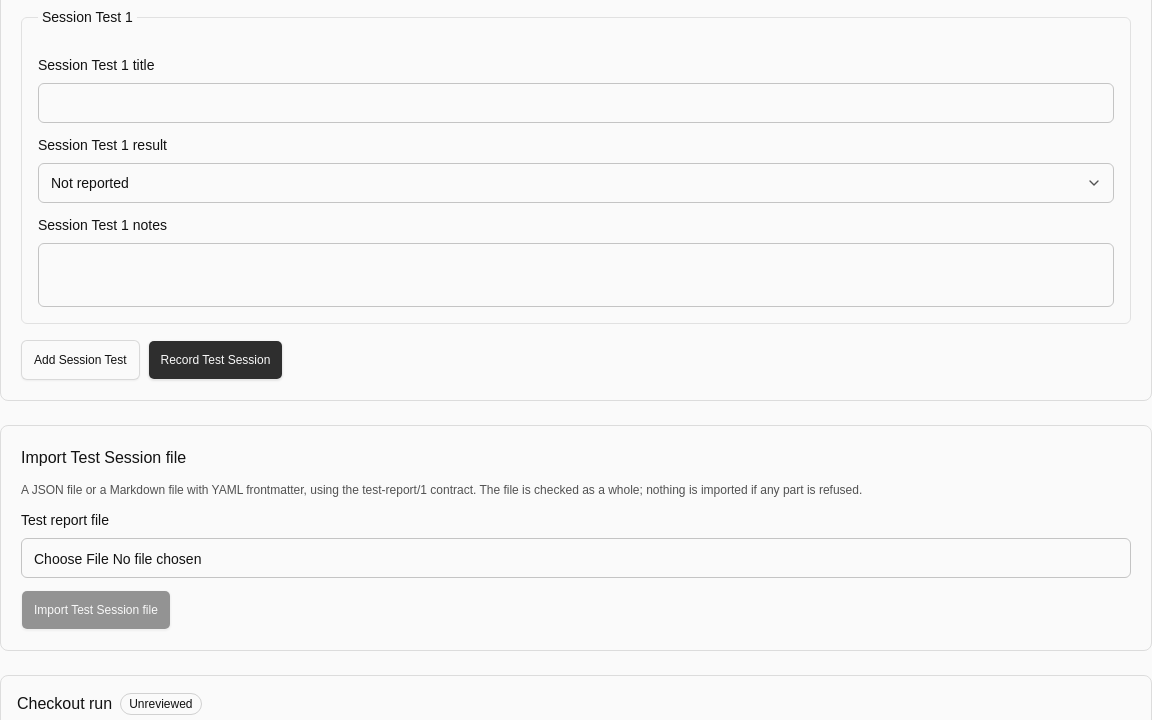
Test case: adds and removes Session Test rows with labelled controls
(page scrolled)
Step 1. Click the button "Add Session Test" → {"x": 80, "y": 360}, box x1=21 y1=340 x2=140 y2=380
(page scrolled)
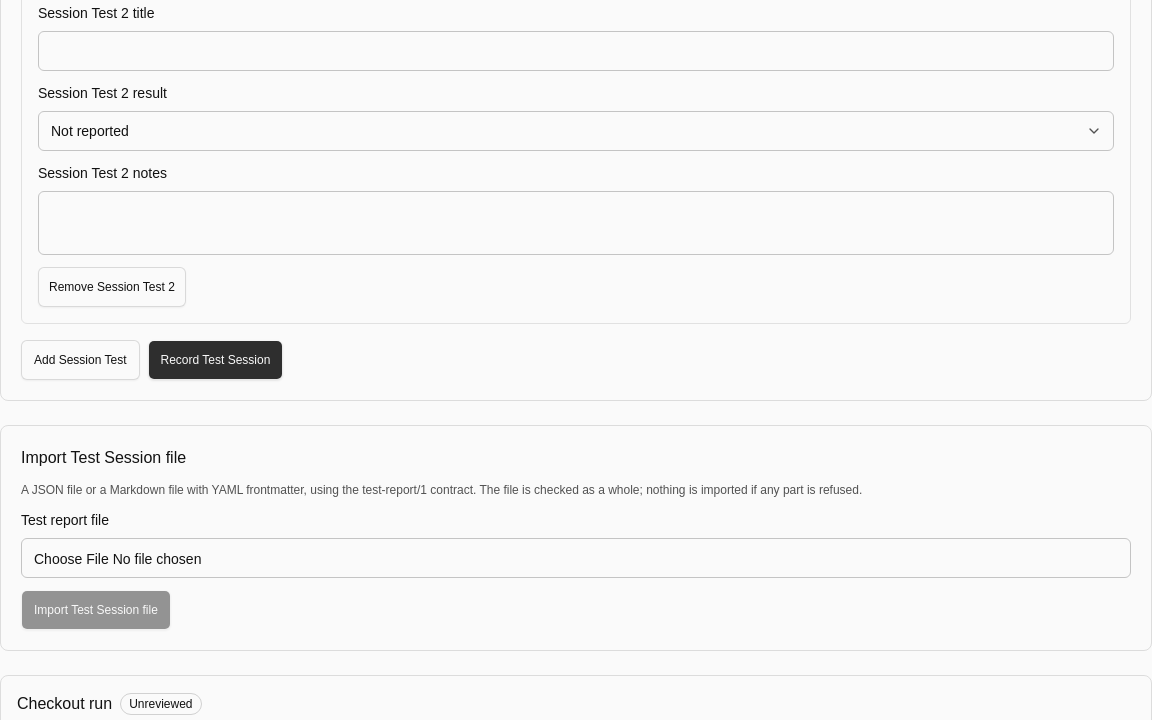
Now the field with id "test-session-test-1-title" is shown, box x1=38 y1=31 x2=1114 y2=71
Now the label "Session Test 2 title" is shown, box x1=38 y1=5 x2=154 y2=21
Step 2. Click the button "Remove Session Test 2" → {"x": 112, "y": 287}, box x1=38 y1=267 x2=186 y2=307
(page scrolled)
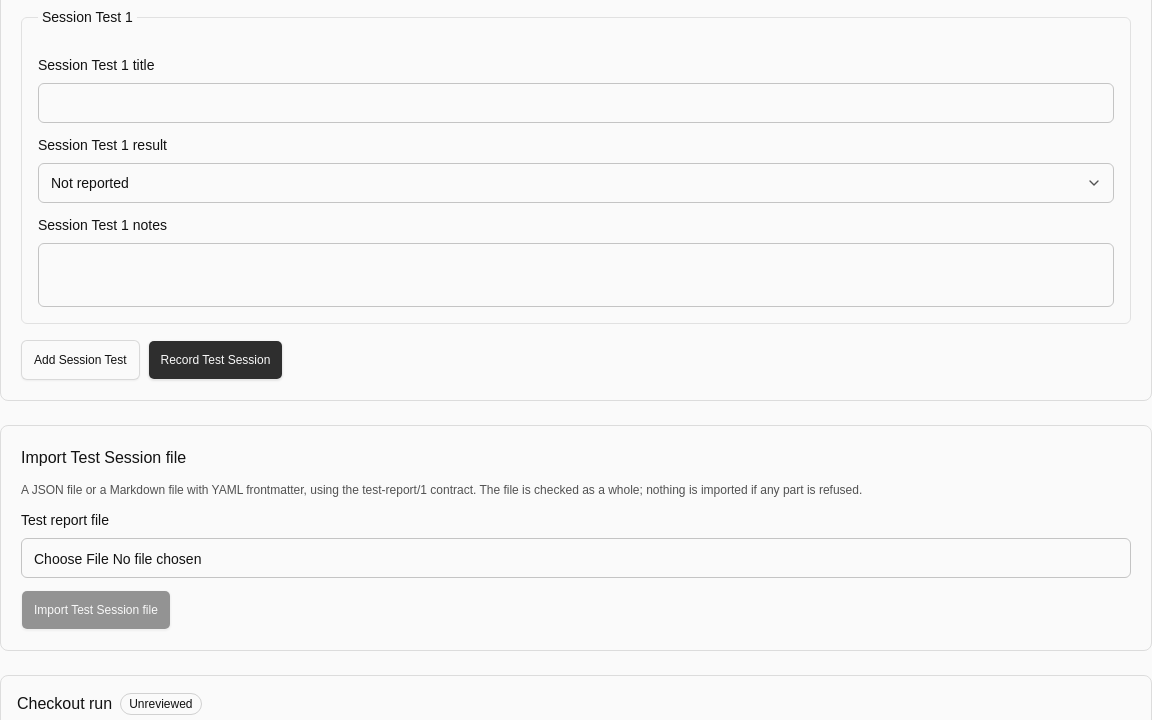
Now the label with id "test-session-test-1-title" is gone
